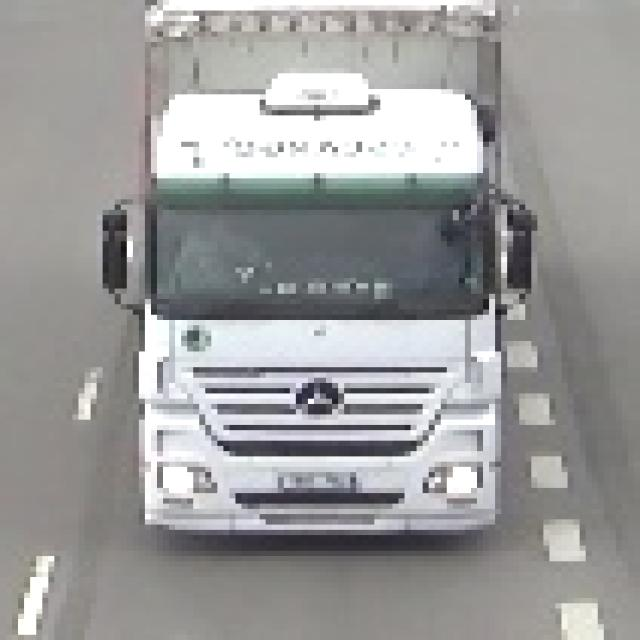TRUCK: (107, 2, 527, 549)
